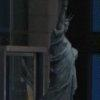Statue: (43, 13, 97, 100)
